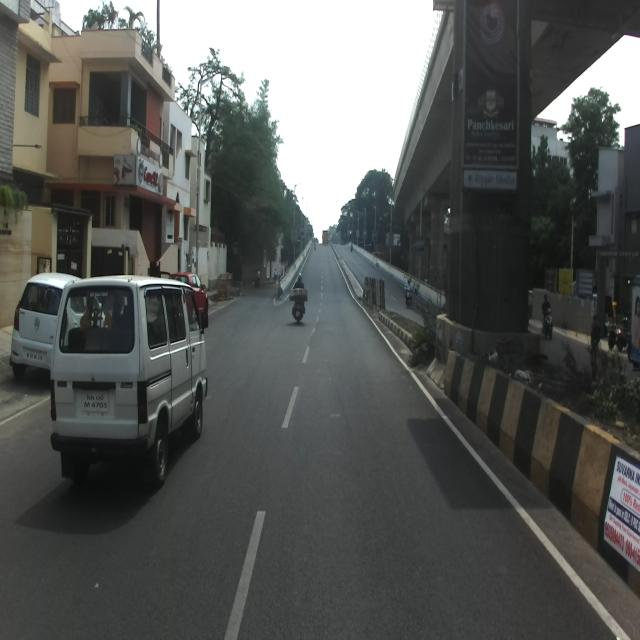car ahead at: (51, 270, 213, 508)
